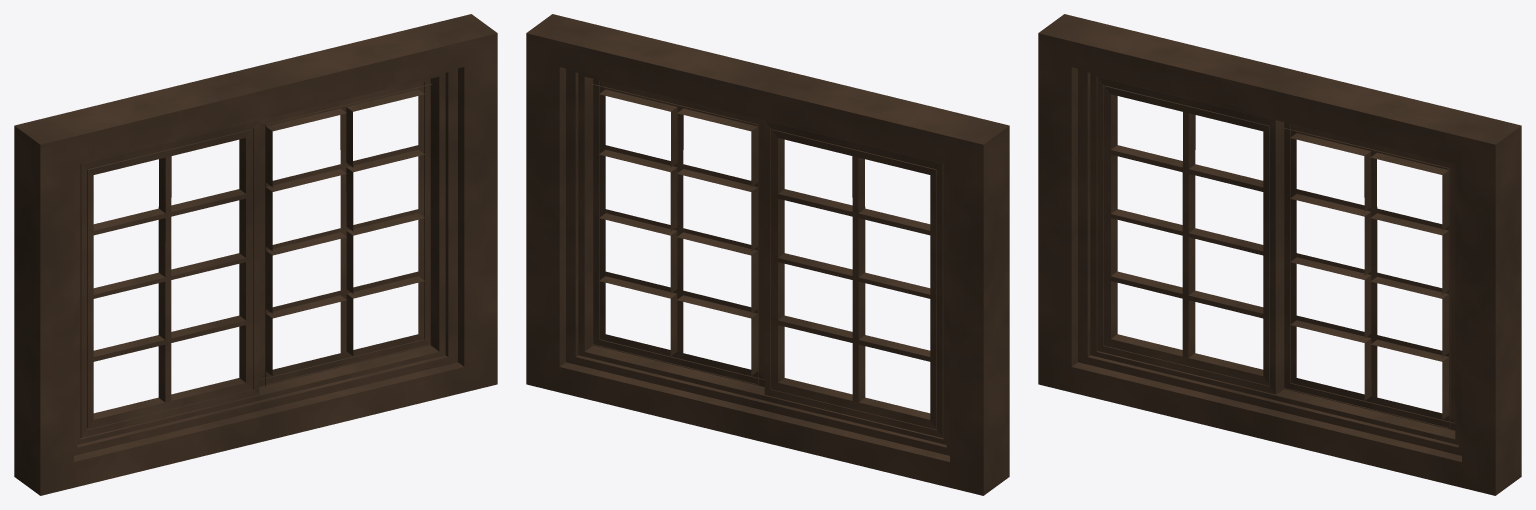
File: window_wood.glb
3 views of the same model, side by side, from view 1: azimuth 30°, elevation 25°; view 2: azimuth 150°, elevation 25°; view 3: azimuth 330°, elevation 25° (orthographic).
Visible parts, largest first — view 1: window_wood; view 2: window_wood; view 3: window_wood.
Boxes of the visible parts, x1,y1,x2,y2 form: window_wood: (14, 14, 497, 495); window_wood: (526, 14, 1009, 495); window_wood: (1038, 14, 1521, 495).
Size of the model in its own units: 2.04 by 1.5 by 0.2034.
Materials: 1 (1 with a texture image).
